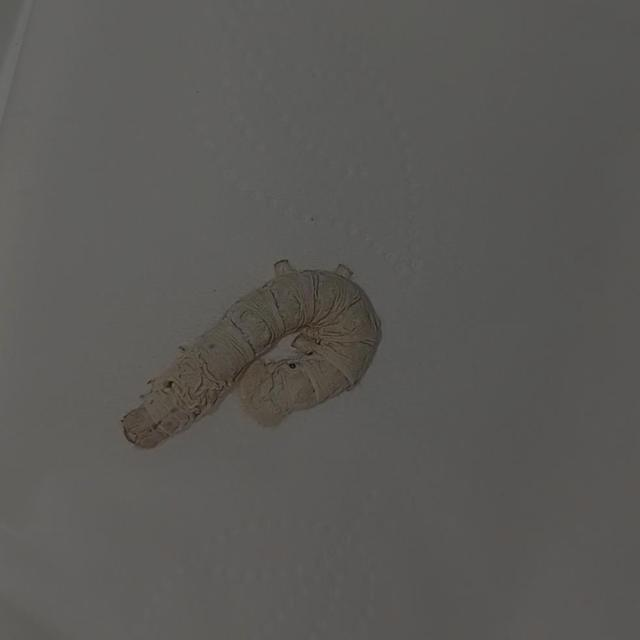Healthy: (96, 220, 406, 478)
